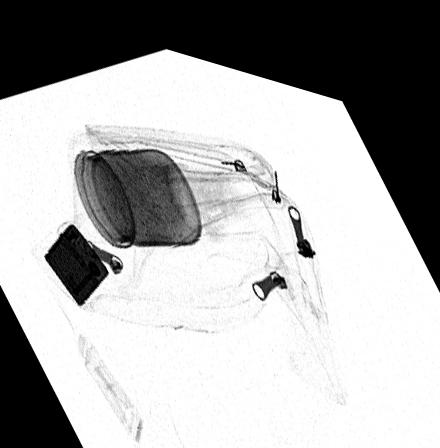Lighter: (41, 219, 109, 301)
